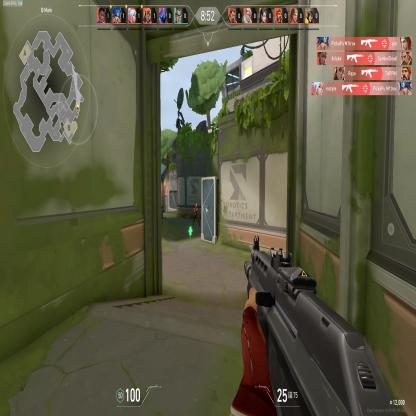enemy: (192, 202, 200, 227)
